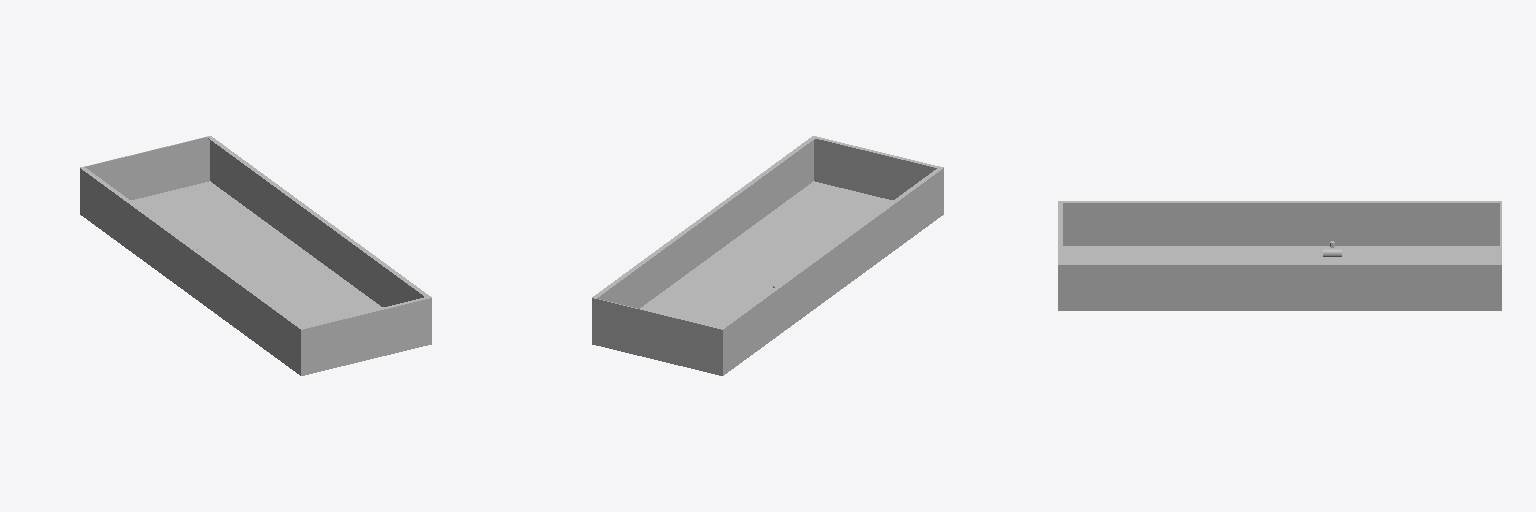
The model's file is PanelBox.obj.
The picture shows the model from 3 angles: view 1: azimuth 30°, elevation 25°; view 2: azimuth 150°, elevation 25°; view 3: azimuth 270°, elevation 25°; orthographic projection.
Parts seen in each view (by area): view 1: Cube.004_Cube.024; view 2: Cube.004_Cube.024; view 3: Cube.004_Cube.024.
Boxes of the visible parts, x1,y1,x2,y2 form: Cube.004_Cube.024: [80, 136, 431, 375]; Cube.004_Cube.024: [592, 136, 943, 375]; Cube.004_Cube.024: [1058, 201, 1501, 310].
Size of the model in its own units: 1.49 by 0.504 by 4.35.